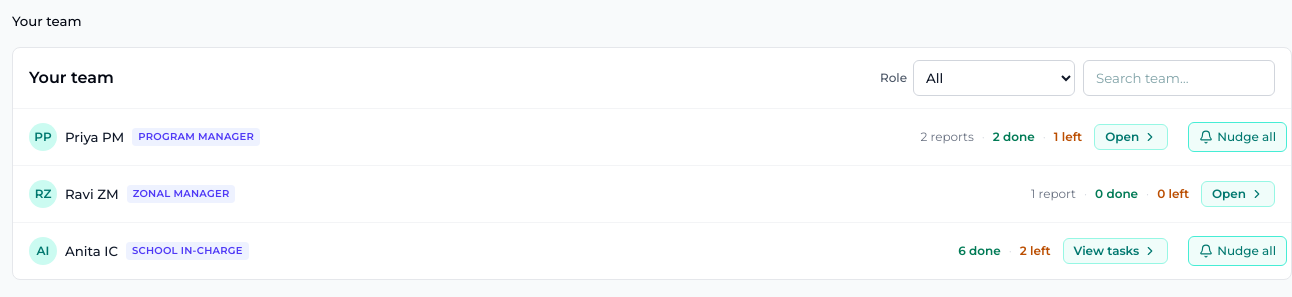
Test: TeamView — by-team drill › filters the current level by name and role
Type "anita" into the field with placeholder "Search team…" at (1179, 78), box x1=1083 y1=60 x2=1275 y2=96
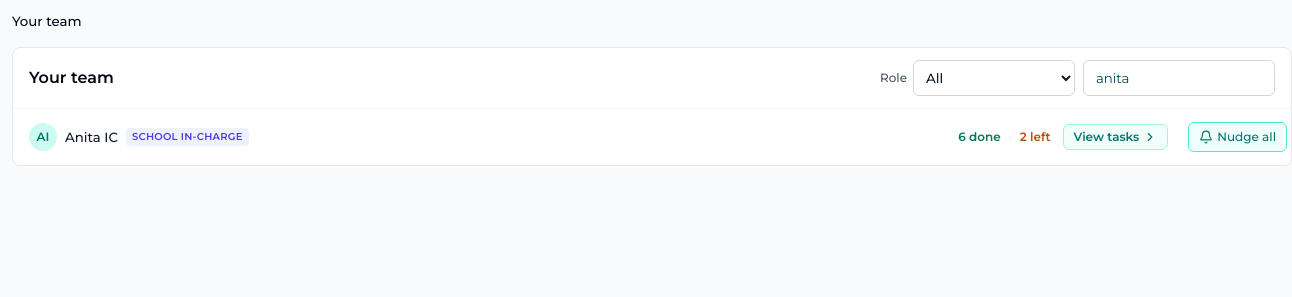
Expected: the text "Anita IC" is shown, x1=65 y1=128 x2=118 y2=146
Expected: the button "Priya PM" is gone
Clear the field with placeholder "Search team…" at (1179, 78), box x1=1083 y1=60 x2=1275 y2=96
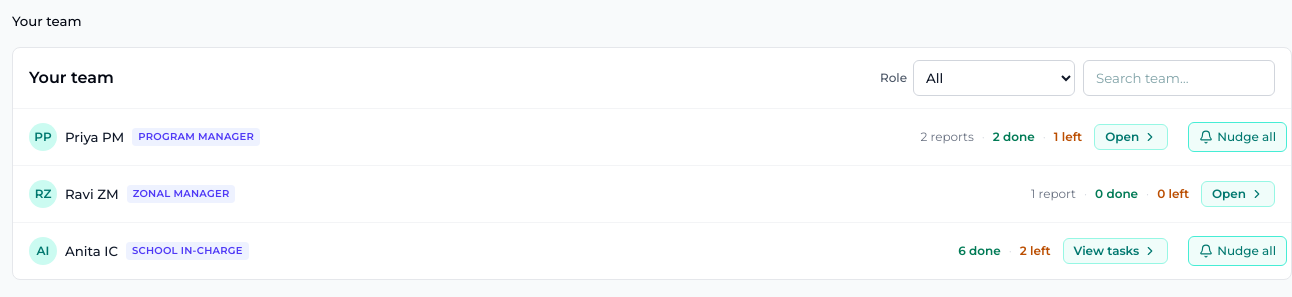
Select "Zonal Manager" in the dropdown labelled "Role" at (994, 78), box x1=913 y1=60 x2=1075 y2=96
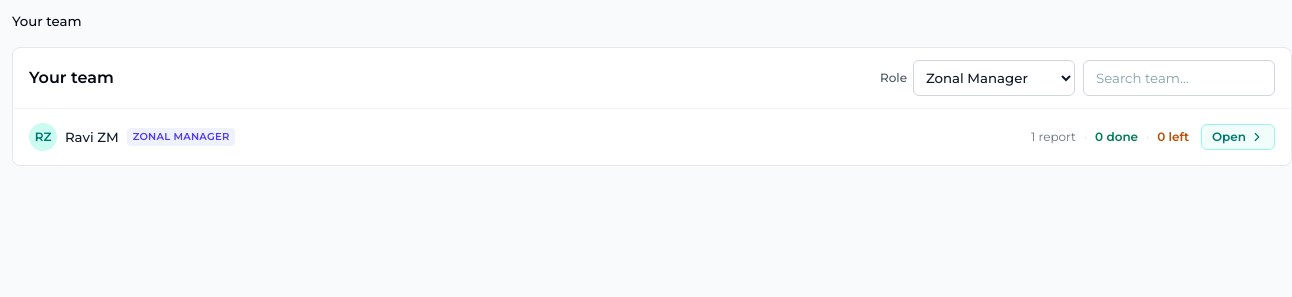
Expected: the text "Ravi ZM" is shown, x1=65 y1=128 x2=119 y2=146
Expected: the button "Priya PM" is gone
